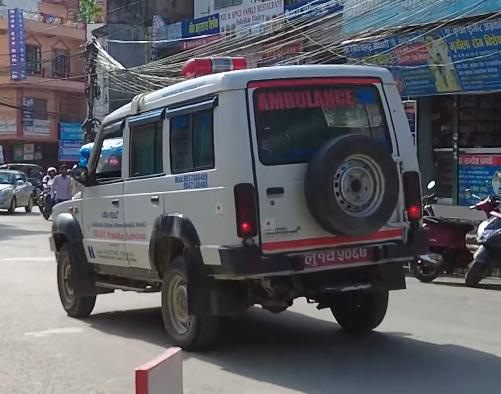ambulance: (42, 51, 429, 360)
car: (0, 167, 35, 219)
scooter: (465, 189, 501, 289)
